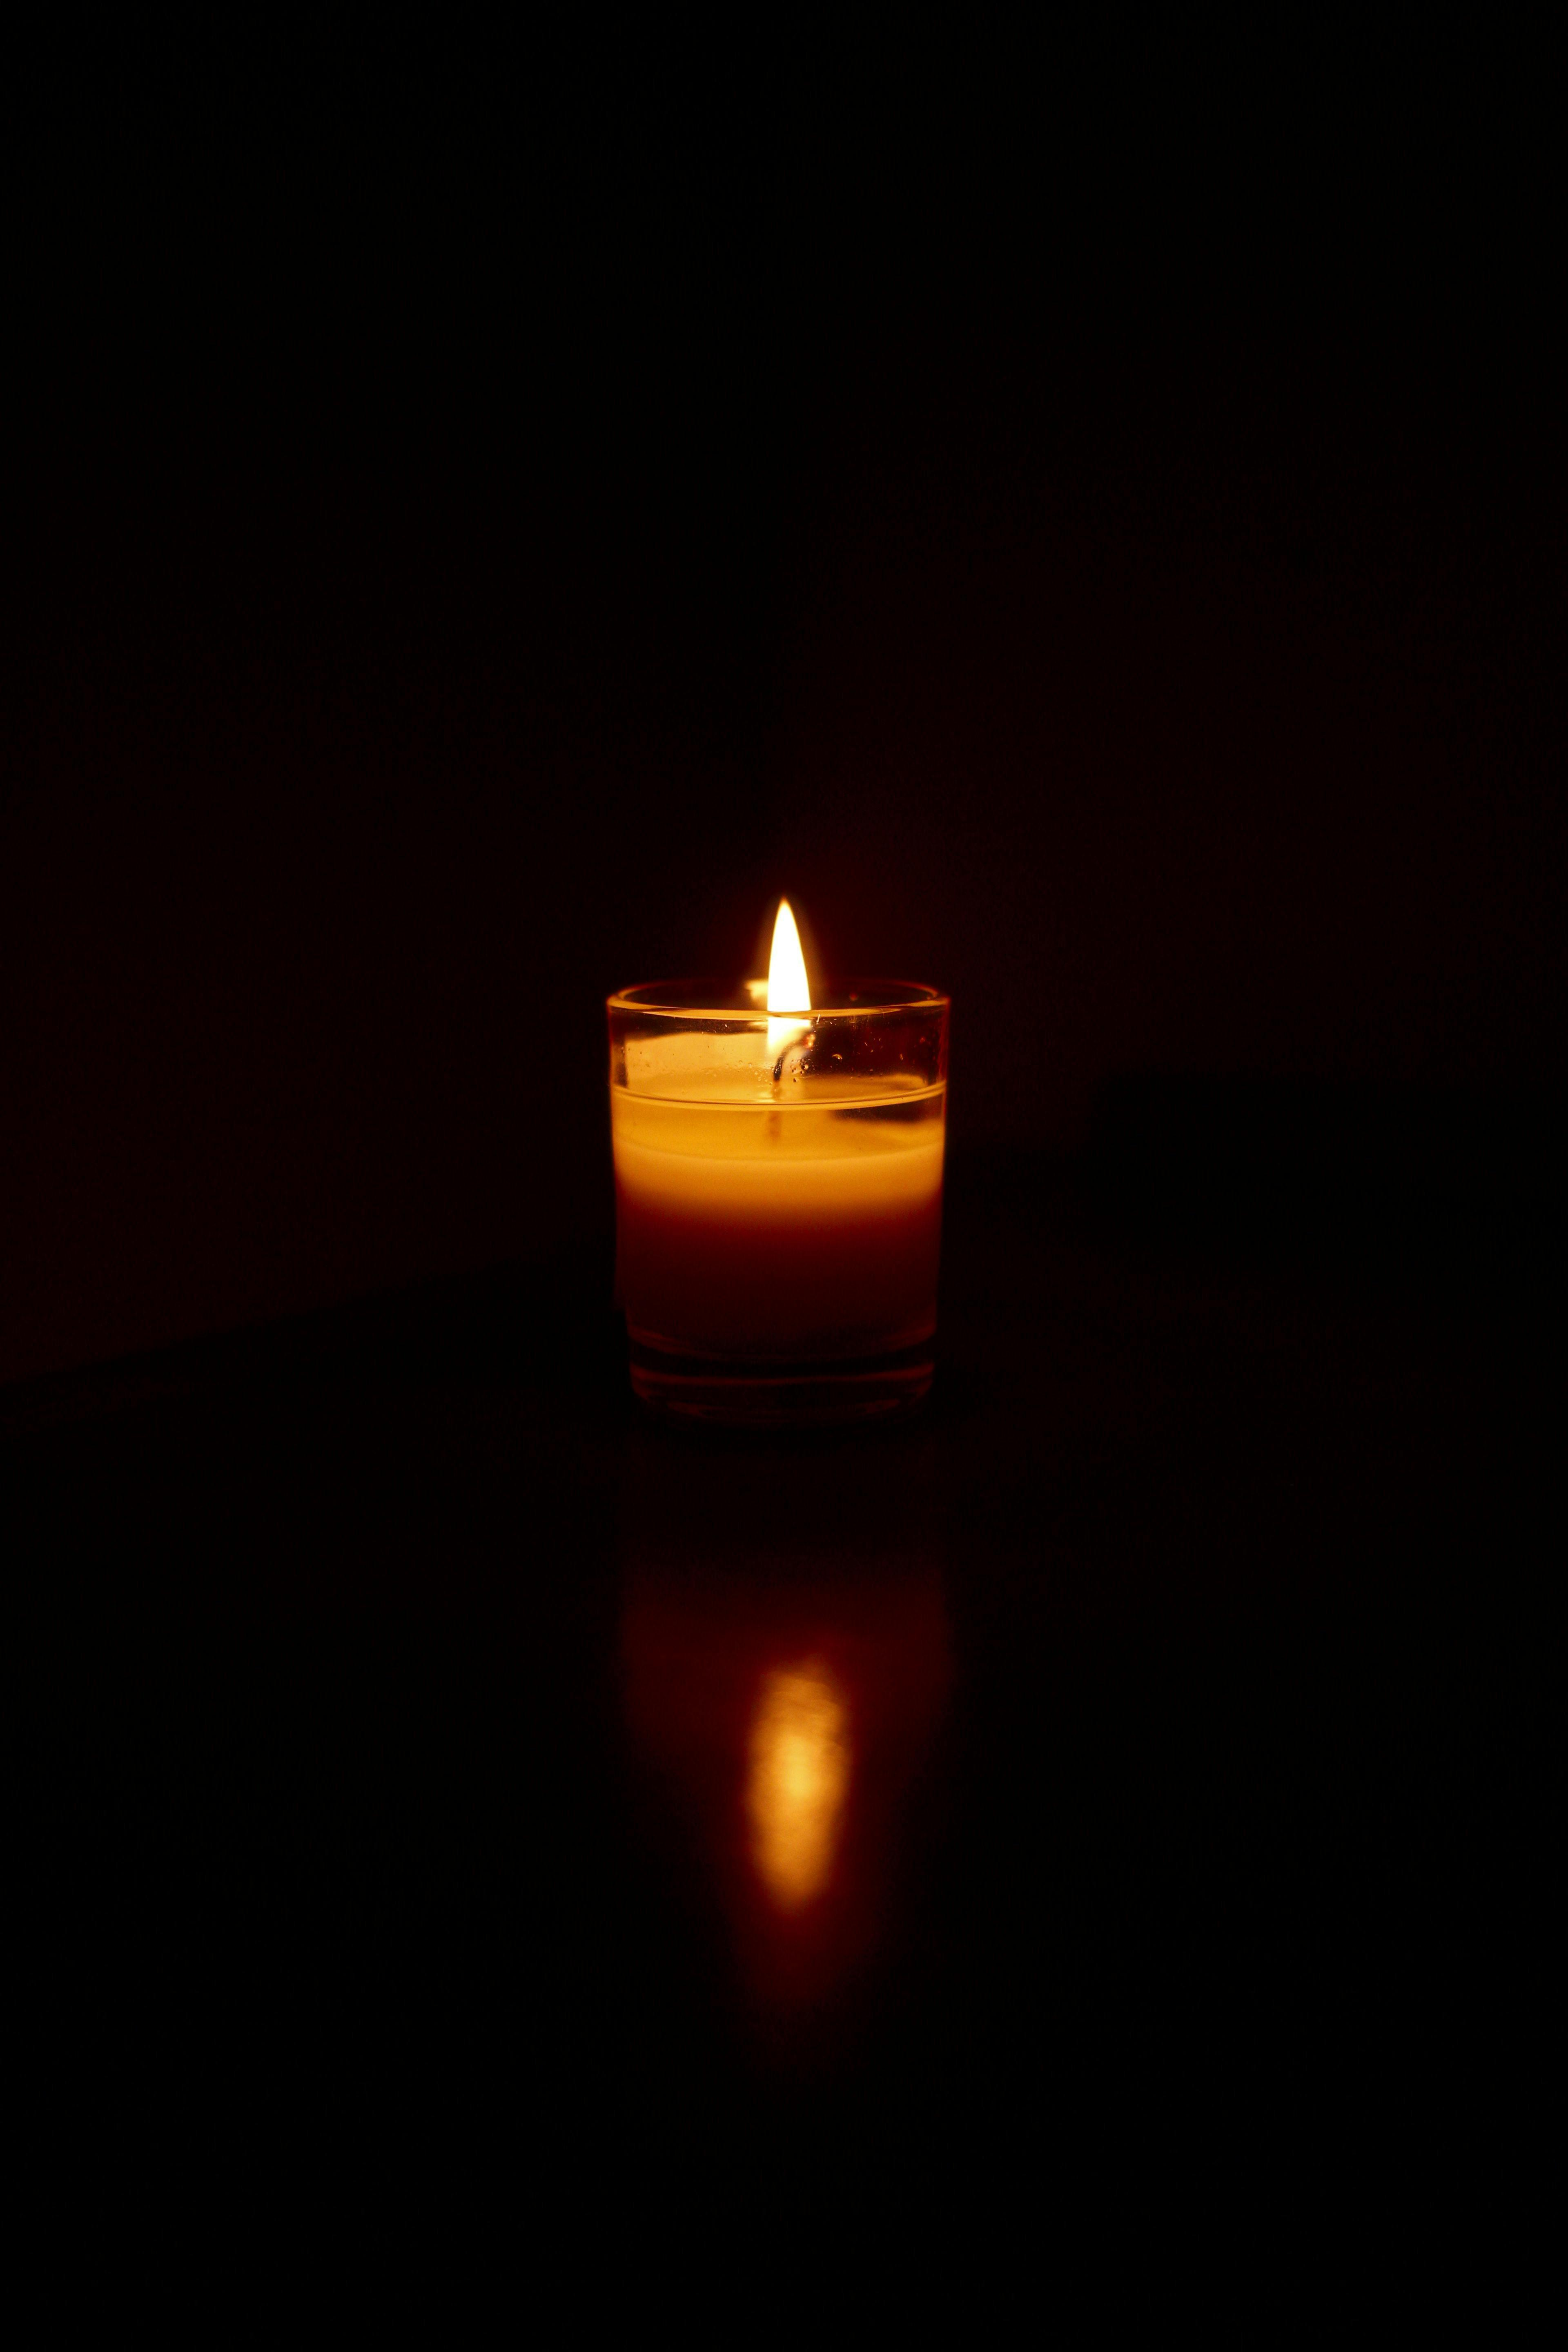Fire: (719, 866, 838, 1081)
